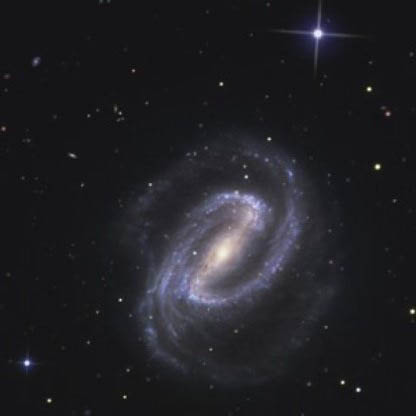NGC 1300: (103, 125, 350, 396)
